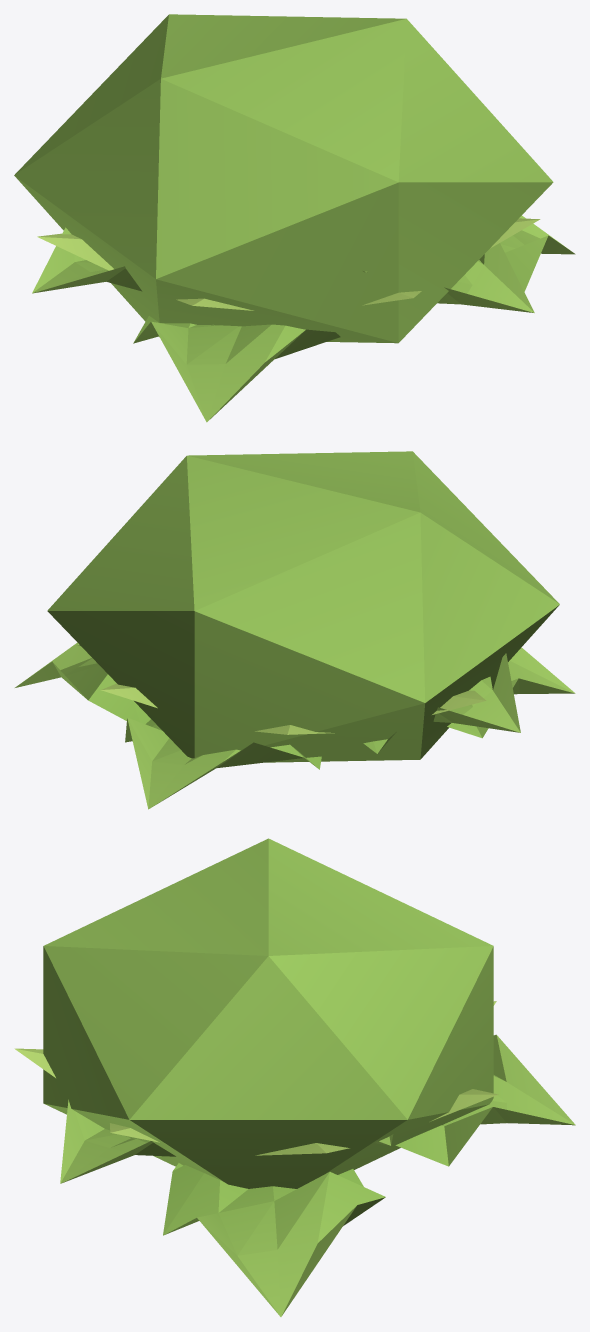
The model's file is lettuce.glb.
The picture shows the model from 3 angles, top to bottom: view 1: azimuth 30°, elevation 25°; view 2: azimuth 150°, elevation 25°; view 3: azimuth 270°, elevation 25°; orthographic projection. The views are drawn at different scales.
Parts seen in each view (by area): view 1: leaves (×3); view 2: leaves (×3); view 3: leaves (×3).
Boxes of the visible parts, left/top/right/bottom form: leaves (×3): left=14, top=14, right=575, bottom=422; leaves (×3): left=15, top=451, right=575, bottom=809; leaves (×3): left=14, top=838, right=575, bottom=1316.
Size of the model in its own units: 2.61 by 1.31 by 2.4.
